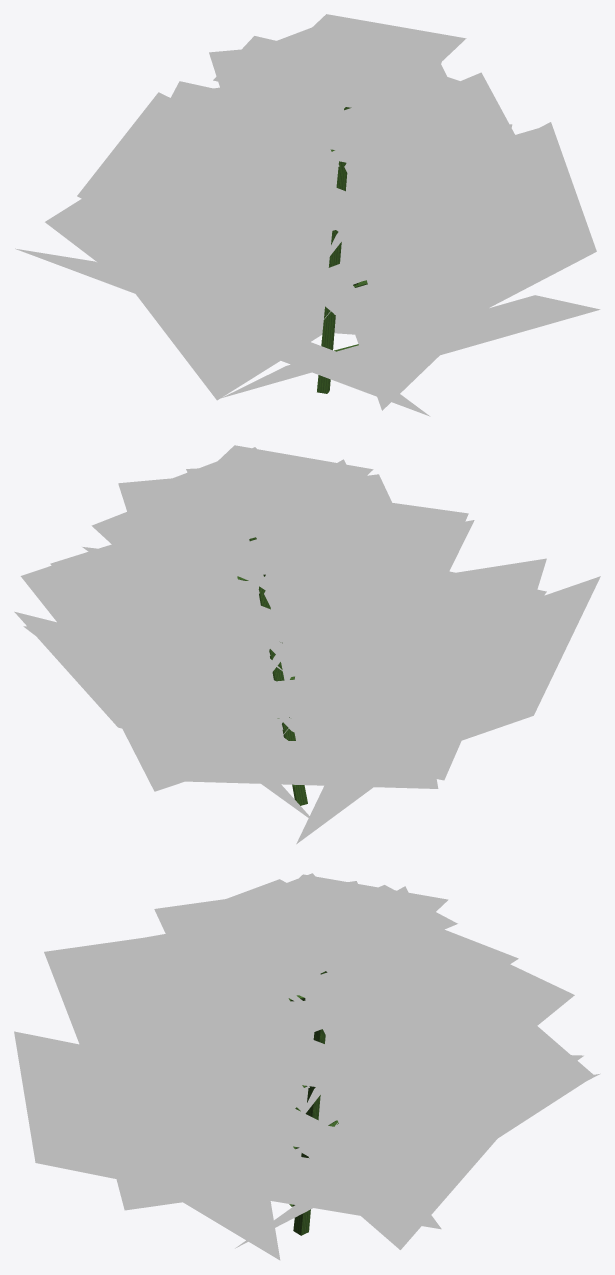
File: plant_1_1_0.obj
The picture shows the model from 3 angles, top to bottom: view 1: azimuth 30°, elevation 25°; view 2: azimuth 150°, elevation 25°; view 3: azimuth 270°, elevation 25°; orthographic projection. The views are drawn at different scales.
Visible parts, largest first — view 1: model; view 2: model; view 3: model.
Boxes of the visible parts, x1=… form: model: x1=15, y1=14, x2=600, y2=416; model: x1=14, y1=445, x2=600, y2=844; model: x1=14, y1=873, x2=600, y2=1260.
Size of the model in its own units: 0.8051 by 0.4472 by 0.7464.
